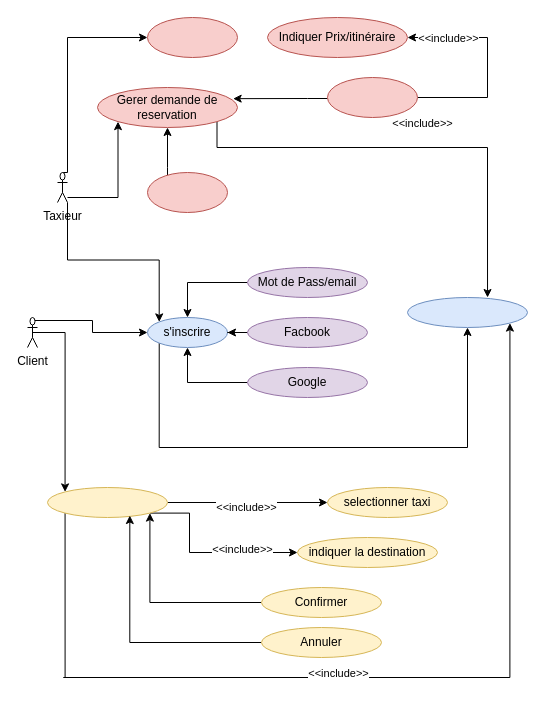
The diagram is 545 pixels wide and 715 high, and some of its shapes have lost their labels. Each missing label, with the centre of its shape:
"Accepter" belongs at point (372, 97).
"Authentification" belongs at point (467, 312).
"Disponibilité" belongs at point (192, 37).
"Refuser" belongs at point (187, 192).
"Reserver un taxi" belongs at point (107, 502).
